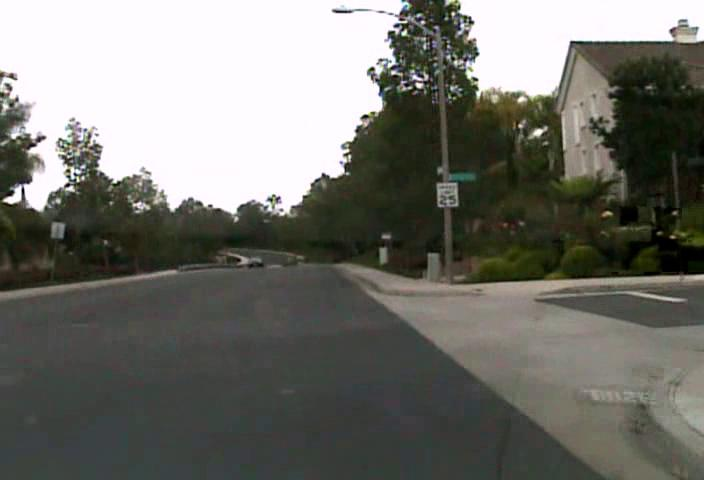speedLimit25: (435, 180, 459, 208)
